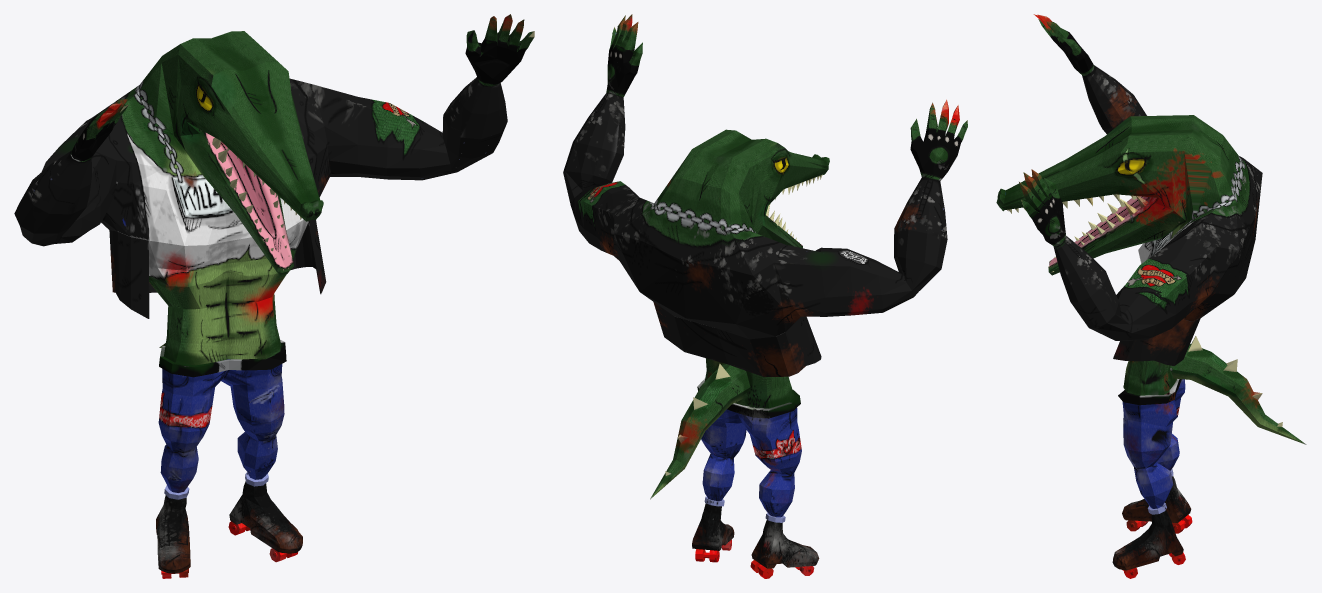
Rendered from cocodrilaBonesSelect_000080.obj.
3 views of the same model, side by side, from view 1: azimuth 30°, elevation 25°; view 2: azimuth 150°, elevation 25°; view 3: azimuth 270°, elevation 25° (orthographic). The views are drawn at different scales.
Visible parts, largest first — view 1: Crocodile.002_Cylinder.002; view 2: Crocodile.002_Cylinder.002; view 3: Crocodile.002_Cylinder.002.
Boxes of the visible parts, x1,y1,x2,y2 form: Crocodile.002_Cylinder.002: (14, 14, 534, 578); Crocodile.002_Cylinder.002: (563, 14, 967, 578); Crocodile.002_Cylinder.002: (996, 14, 1306, 578).
Bounding box in the file's own units: 6.36 × 7.23 × 4.32.
